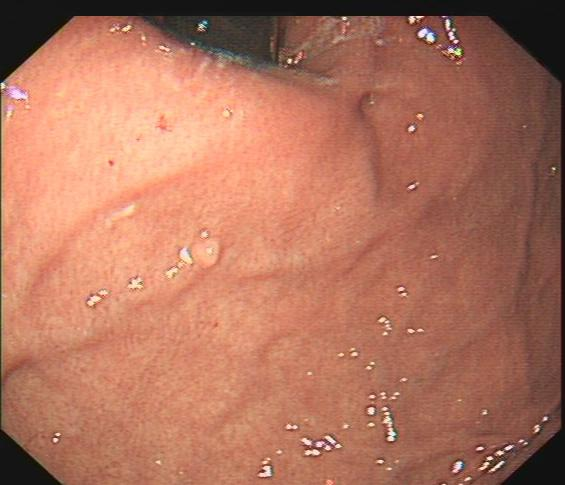Polyp: (170, 223, 243, 290)
